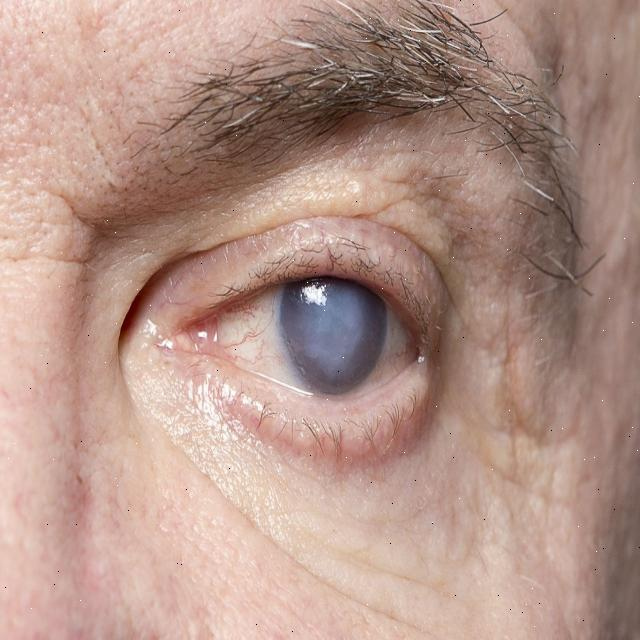Cataract: (277, 241, 388, 399)
